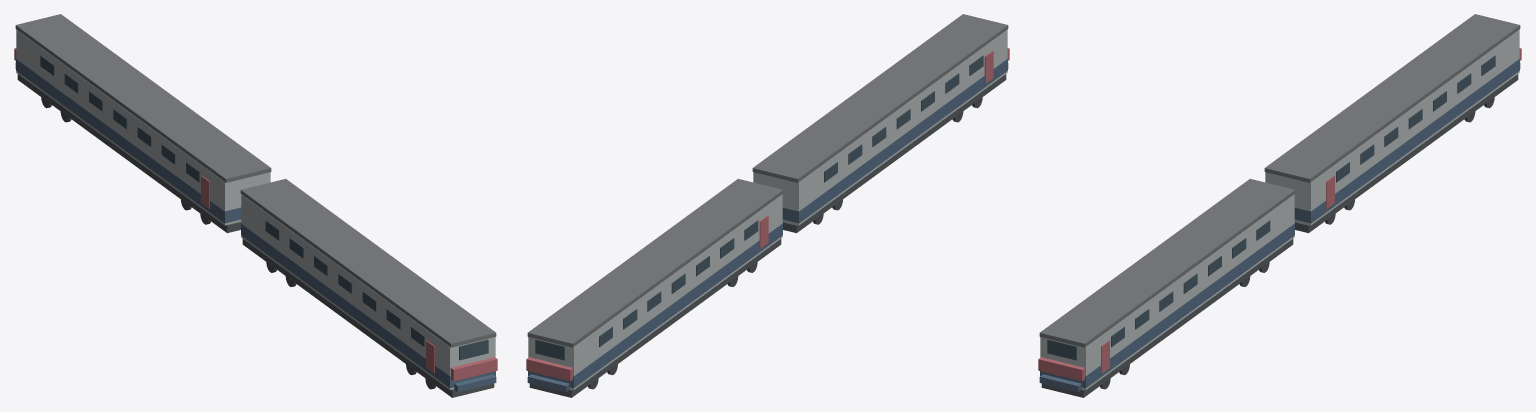
The model's file is scotrail_class158_2car.glb.
3 renders of one model, left to right at view 1: azimuth 30°, elevation 25°; view 2: azimuth 150°, elevation 25°; view 3: azimuth 330°, elevation 25°, orthographic.
Visible parts, largest first — view 1: car_A_roof, car_B_roof, car_B_body, car_A_body, car_B_lower_band, car_A_lower_band, car_A_underframe, car_B_underframe, car_A_nose, car_A_cab_glass, car_A_front_skirt; view 2: car_A_roof, car_B_roof, car_A_body, car_B_body, car_A_lower_band, car_B_lower_band, car_B_underframe, car_A_underframe, car_B_nose, car_B_cab_glass, car_B_front_skirt; view 3: car_A_roof, car_B_roof, car_B_body, car_A_body, car_B_lower_band, car_A_lower_band, car_A_underframe, car_B_underframe, car_A_nose, car_A_cab_glass, car_A_front_skirt.
Part boxes in pixels (bbox=[...]): car_A_roof: bbox=[240, 179, 496, 347]; car_B_roof: bbox=[15, 14, 271, 182]; car_B_body: bbox=[16, 30, 270, 225]; car_A_body: bbox=[241, 194, 495, 389]; car_B_lower_band: bbox=[16, 58, 241, 223]; car_A_lower_band: bbox=[241, 223, 495, 388]; car_A_underframe: bbox=[242, 239, 494, 397]; car_B_underframe: bbox=[17, 74, 241, 233]; car_A_nose: bbox=[450, 357, 497, 381]; car_A_cab_glass: bbox=[459, 339, 488, 360]; car_A_front_skirt: bbox=[454, 374, 496, 392]; car_A_roof: bbox=[752, 14, 1008, 182]; car_B_roof: bbox=[527, 179, 783, 347]; car_A_body: bbox=[753, 30, 1007, 225]; car_B_body: bbox=[528, 194, 782, 389]; car_A_lower_band: bbox=[782, 58, 1007, 223]; car_B_lower_band: bbox=[528, 223, 782, 388]; car_B_underframe: bbox=[529, 239, 781, 397]; car_A_underframe: bbox=[782, 74, 1006, 233]; car_B_nose: bbox=[526, 357, 573, 381]; car_B_cab_glass: bbox=[535, 339, 564, 360]; car_B_front_skirt: bbox=[527, 374, 569, 392]; car_A_roof: bbox=[1039, 179, 1295, 347]; car_B_roof: bbox=[1264, 14, 1520, 182]; car_B_body: bbox=[1265, 30, 1519, 225]; car_A_body: bbox=[1040, 194, 1294, 389]; car_B_lower_band: bbox=[1294, 58, 1519, 223]; car_A_lower_band: bbox=[1040, 223, 1294, 388]; car_A_underframe: bbox=[1041, 239, 1293, 397]; car_B_underframe: bbox=[1294, 74, 1518, 233]; car_A_nose: bbox=[1038, 357, 1085, 381]; car_A_cab_glass: bbox=[1047, 339, 1076, 360]; car_A_front_skirt: bbox=[1039, 374, 1081, 392].
Bounding box in the file's own units: 2.83 × 3.68 × 45.58.
